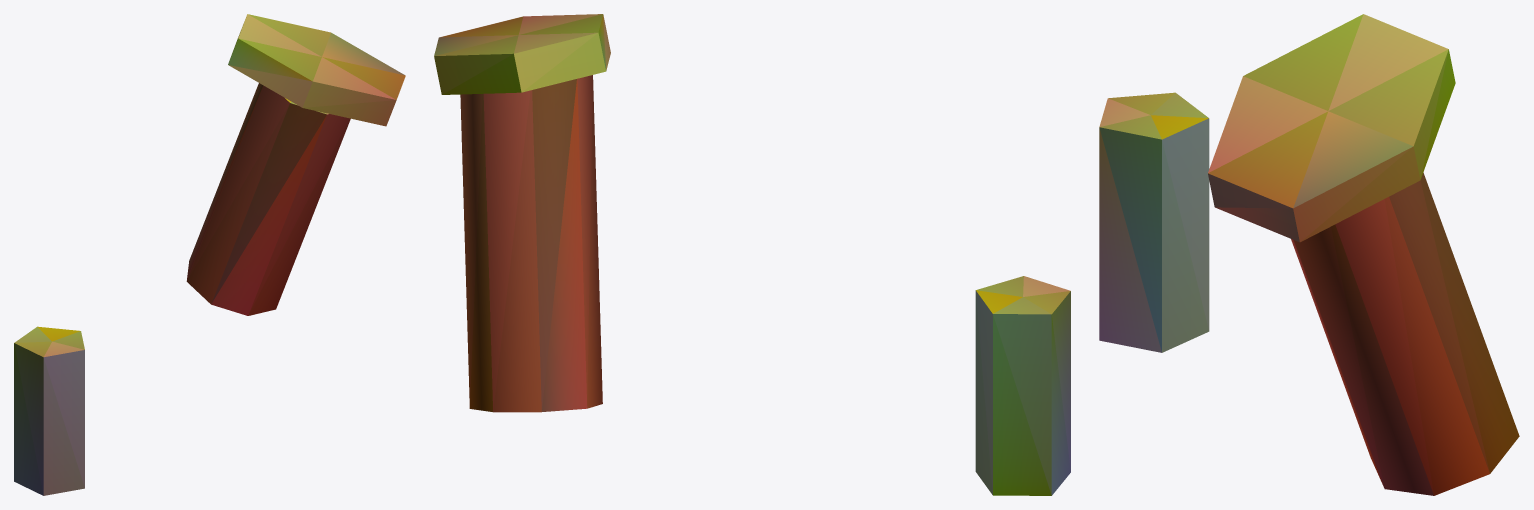
The model's file is static_multi.glb.
3 renders of one model, left to right at view 1: azimuth 30°, elevation 25°; view 2: azimuth 150°, elevation 25°; view 3: azimuth 270°, elevation 25°, orthographic. The views are drawn at different scales.
Parts seen in each view (by area): view 1: Pillar, Cap, Mirror; view 2: Pillar, Mirror, Cap; view 3: Pillar, Cap, Mirror.
Part boxes in pixels (<box>): Pillar: <box>186,83,350,315</box>; Cap: <box>228,14,405,126</box>; Mirror: <box>14,326,84,495</box>; Pillar: <box>460,75,602,412</box>; Mirror: <box>975,276,1070,495</box>; Cap: <box>434,14,610,94</box>; Pillar: <box>1291,172,1519,495</box>; Cap: <box>1208,14,1455,242</box>; Mirror: <box>1099,92,1209,352</box>.
Size of the model in its own units: 3.89 by 2.85 by 2.14.
